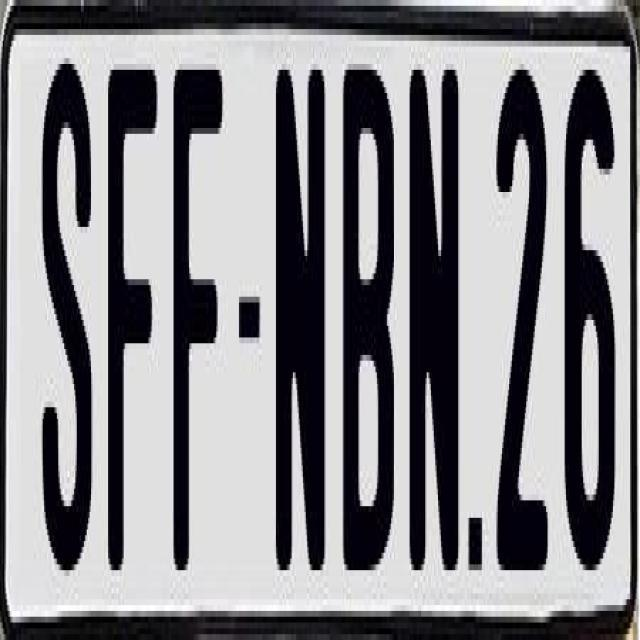2: (492, 52, 546, 564)
6: (564, 52, 618, 564)
B: (340, 52, 394, 558)
F: (108, 52, 162, 564), (172, 58, 221, 564)
N: (276, 52, 332, 553), (410, 52, 462, 588)
S: (43, 46, 94, 558)
